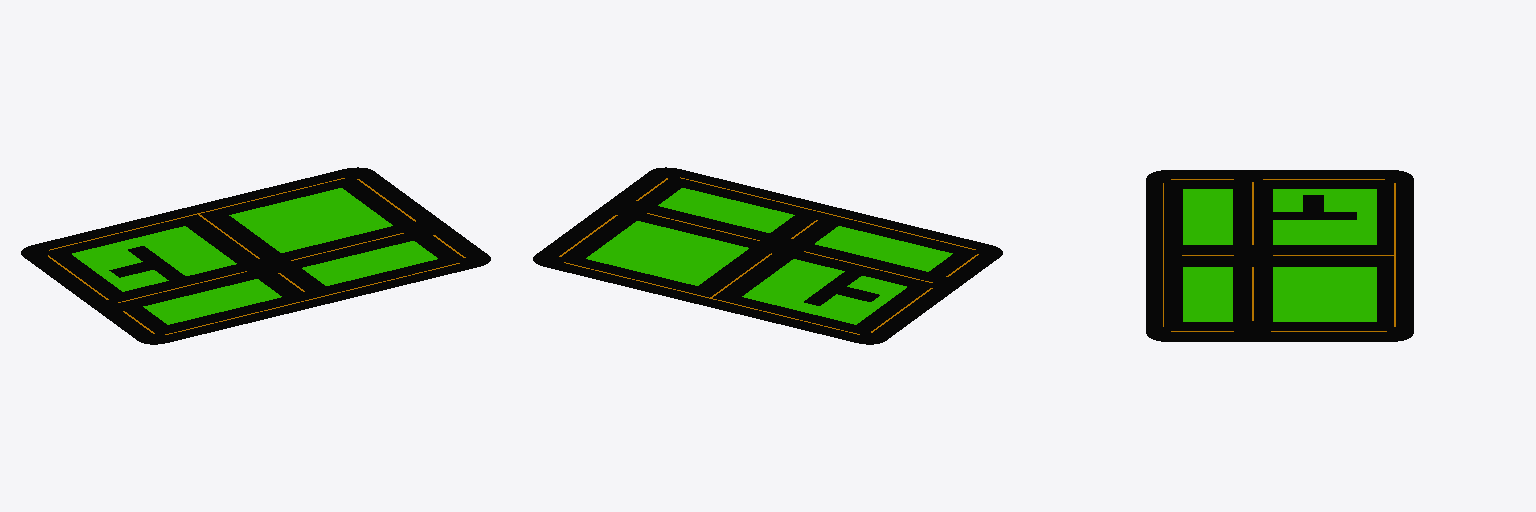
The model's file is large.obj.
3 renders of one model, left to right at view 1: azimuth 30°, elevation 25°; view 2: azimuth 150°, elevation 25°; view 3: azimuth 270°, elevation 25°, orthographic.
Visible parts, largest first — view 1: road.002_Plane.002, Plane.002_Plane.005; view 2: road.002_Plane.002, Plane.002_Plane.005; view 3: road.002_Plane.002, Plane.002_Plane.005.
Boxes of the visible parts, <box> form: road.002_Plane.002: <box>21,167,490,344</box>; Plane.002_Plane.005: <box>72,188,437,324</box>; road.002_Plane.002: <box>533,167,1002,344</box>; Plane.002_Plane.005: <box>586,188,952,324</box>; road.002_Plane.002: <box>1146,170,1413,341</box>; Plane.002_Plane.005: <box>1183,189,1376,321</box>.
Size of the model in its own units: 9791 by 0.0187 by 6481.